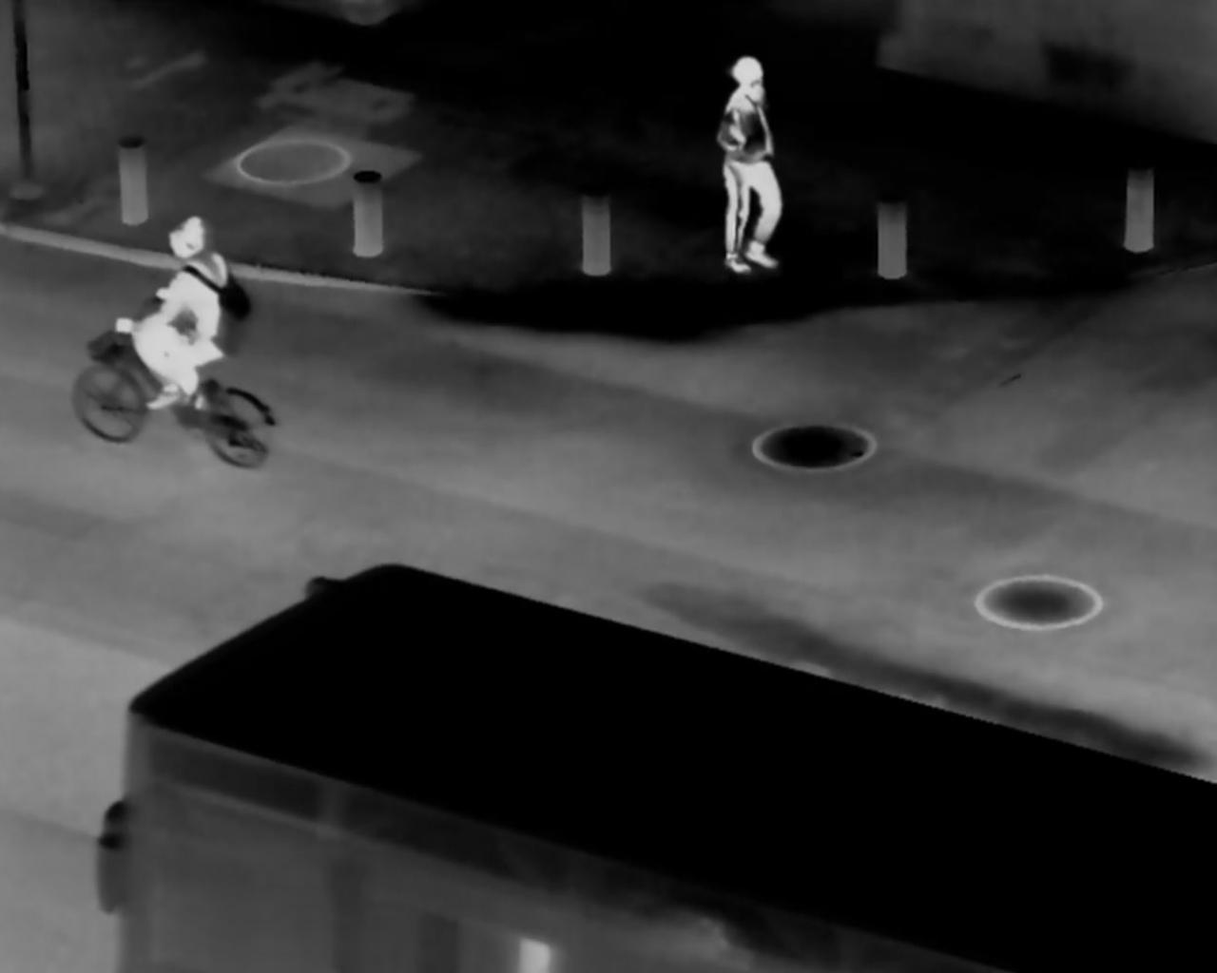person: (114, 202, 243, 395), (708, 52, 793, 272)
